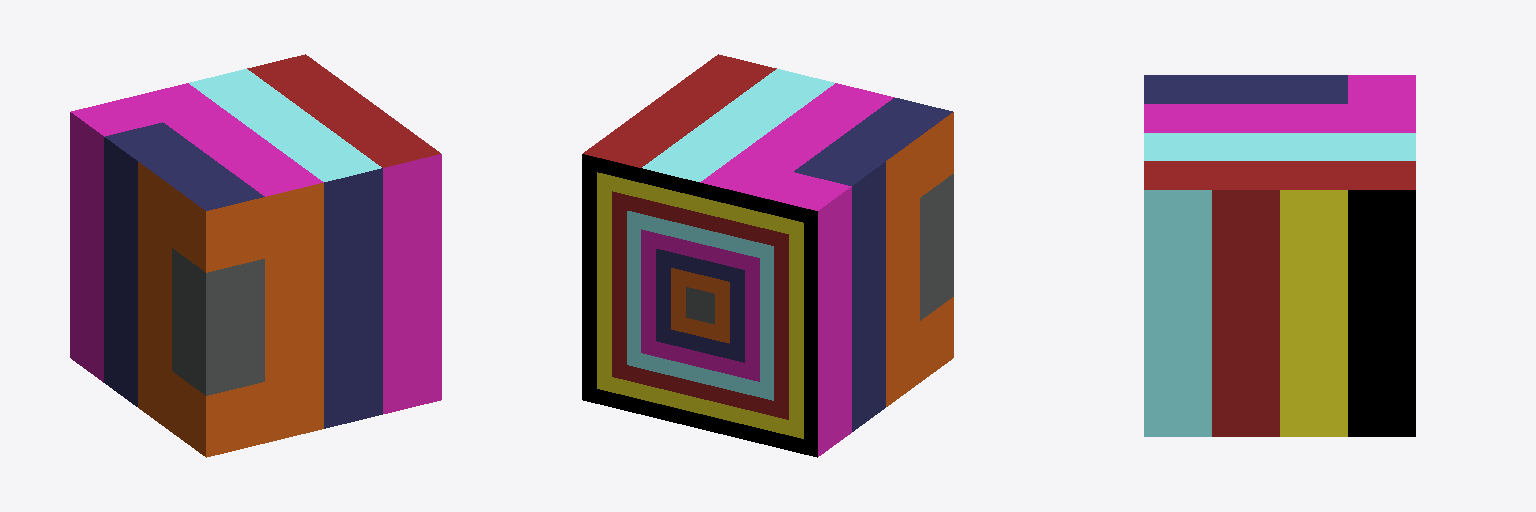
The picture shows the model from 3 angles: view 1: azimuth 30°, elevation 25°; view 2: azimuth 150°, elevation 25°; view 3: azimuth 270°, elevation 25°; orthographic projection.
Parts seen in each view (by area): view 1: 立方体; view 2: 立方体; view 3: 立方体.
Part boxes in pixels (left/top/right/bottom): 立方体: left=70, top=54, right=441, bottom=457; 立方体: left=582, top=54, right=953, bottom=457; 立方体: left=1144, top=75, right=1415, bottom=436.
Bounding box in the file's own units: 2 × 2 × 2.
1 materials, 1 textured.